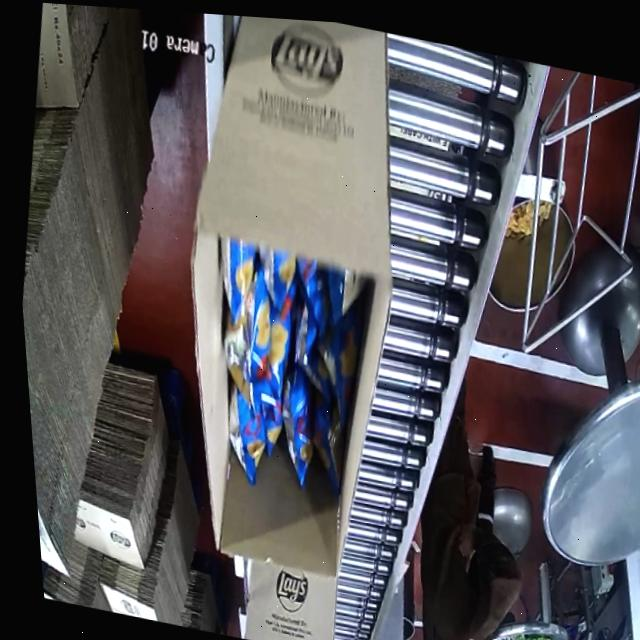PAPRIKA: (189, 232, 374, 502)
